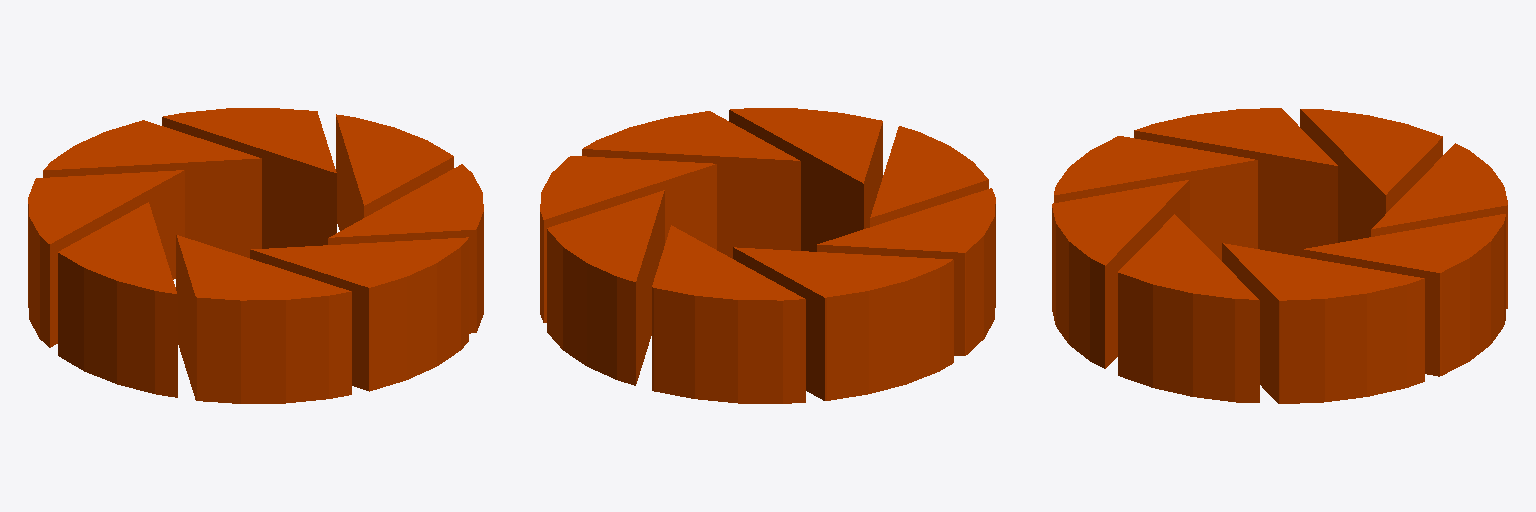
The model's file is portail.obj.
3 views of the same model, side by side, from view 1: azimuth 30°, elevation 25°; view 2: azimuth 150°, elevation 25°; view 3: azimuth 270°, elevation 25° (orthographic).
Parts seen in each view (by area): view 1: Cylinder; view 2: Cylinder; view 3: Cylinder.
Part boxes in pixels (x1,y1,x2,y2): Cylinder: (28, 108, 483, 403); Cylinder: (540, 108, 995, 403); Cylinder: (1052, 108, 1507, 403).
Size of the model in its own units: 14 by 3.5 by 14.